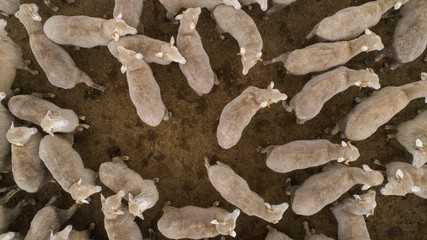sheep: (10, 3, 105, 92), (110, 44, 182, 136), (32, 132, 114, 212), (206, 157, 290, 225), (208, 81, 290, 150), (162, 4, 229, 86), (342, 76, 427, 138), (285, 163, 386, 215), (277, 33, 382, 83), (203, 1, 268, 80), (93, 152, 177, 213), (293, 68, 377, 125), (308, 1, 410, 44), (111, 24, 185, 75), (5, 92, 90, 136), (151, 203, 242, 240), (11, 115, 48, 201), (40, 12, 142, 43), (263, 139, 363, 170), (97, 186, 138, 240), (329, 194, 376, 240), (384, 160, 427, 195)
